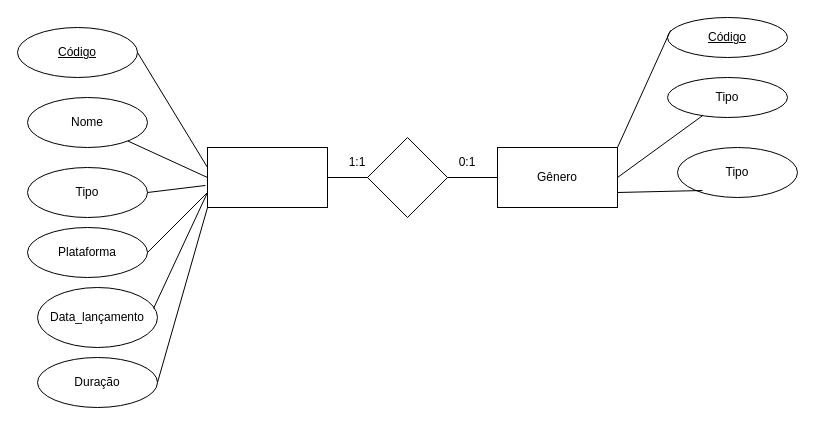
This 815x425 diagram has some shape labels left out. Here are the shapes that lost their labels. From the top down, the centre of each, then its label:
(267,177): Filme
(407,177): Possui
